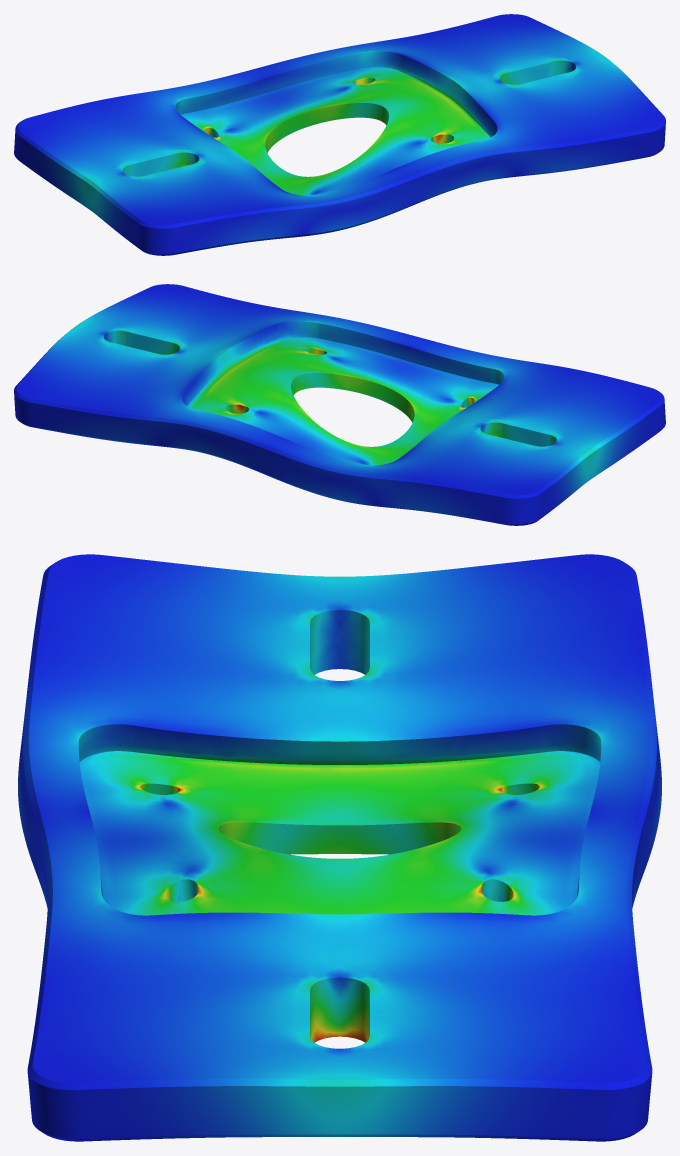
File: result.glb
3 views of the same model, one above another, from view 1: azimuth 30°, elevation 25°; view 2: azimuth 150°, elevation 25°; view 3: azimuth 270°, elevation 25° (orthographic). The views are drawn at different scales.
Visible parts, largest first — view 1: motor_plate von Mises; view 2: motor_plate von Mises; view 3: motor_plate von Mises.
Boxes of the visible parts, box(x1,y1,x2,y2) form: motor_plate von Mises: box(14, 14, 665, 255); motor_plate von Mises: box(14, 284, 665, 525); motor_plate von Mises: box(18, 554, 661, 1141).
Size of the model in its own units: 0.1121 by 0.0114 by 0.0592.
Materials: 1 (1 with a texture image).
